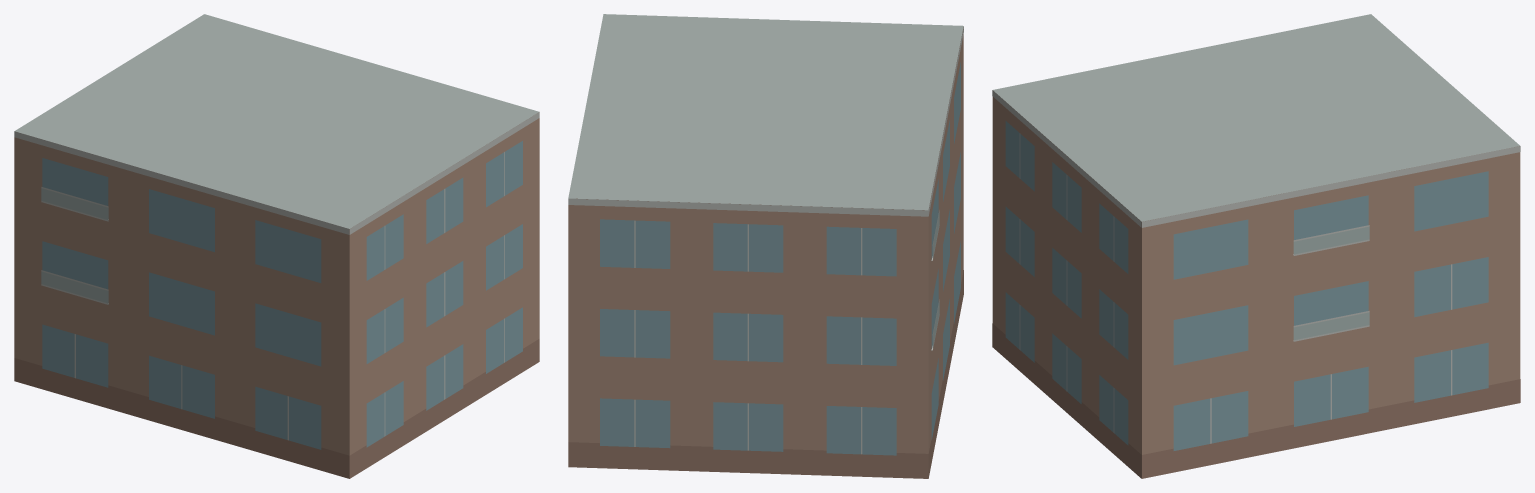
Rendered from survey-upis-32739955.glb.
3 views of the same model, side by side, from view 1: azimuth 30°, elevation 25°; view 2: azimuth 150°, elevation 25°; view 3: azimuth 270°, elevation 25° (orthographic). The views are drawn at different scales.
Visible parts, largest first — view 1: survey-upis-32739955.tmp; view 2: survey-upis-32739955.tmp; view 3: survey-upis-32739955.tmp.
Part boxes in pixels (bbox=[...]): survey-upis-32739955.tmp: bbox=[14, 14, 539, 478]; survey-upis-32739955.tmp: bbox=[568, 14, 963, 478]; survey-upis-32739955.tmp: bbox=[992, 14, 1520, 478].
Size of the model in its own units: 17.51 by 10.1 by 18.8.
